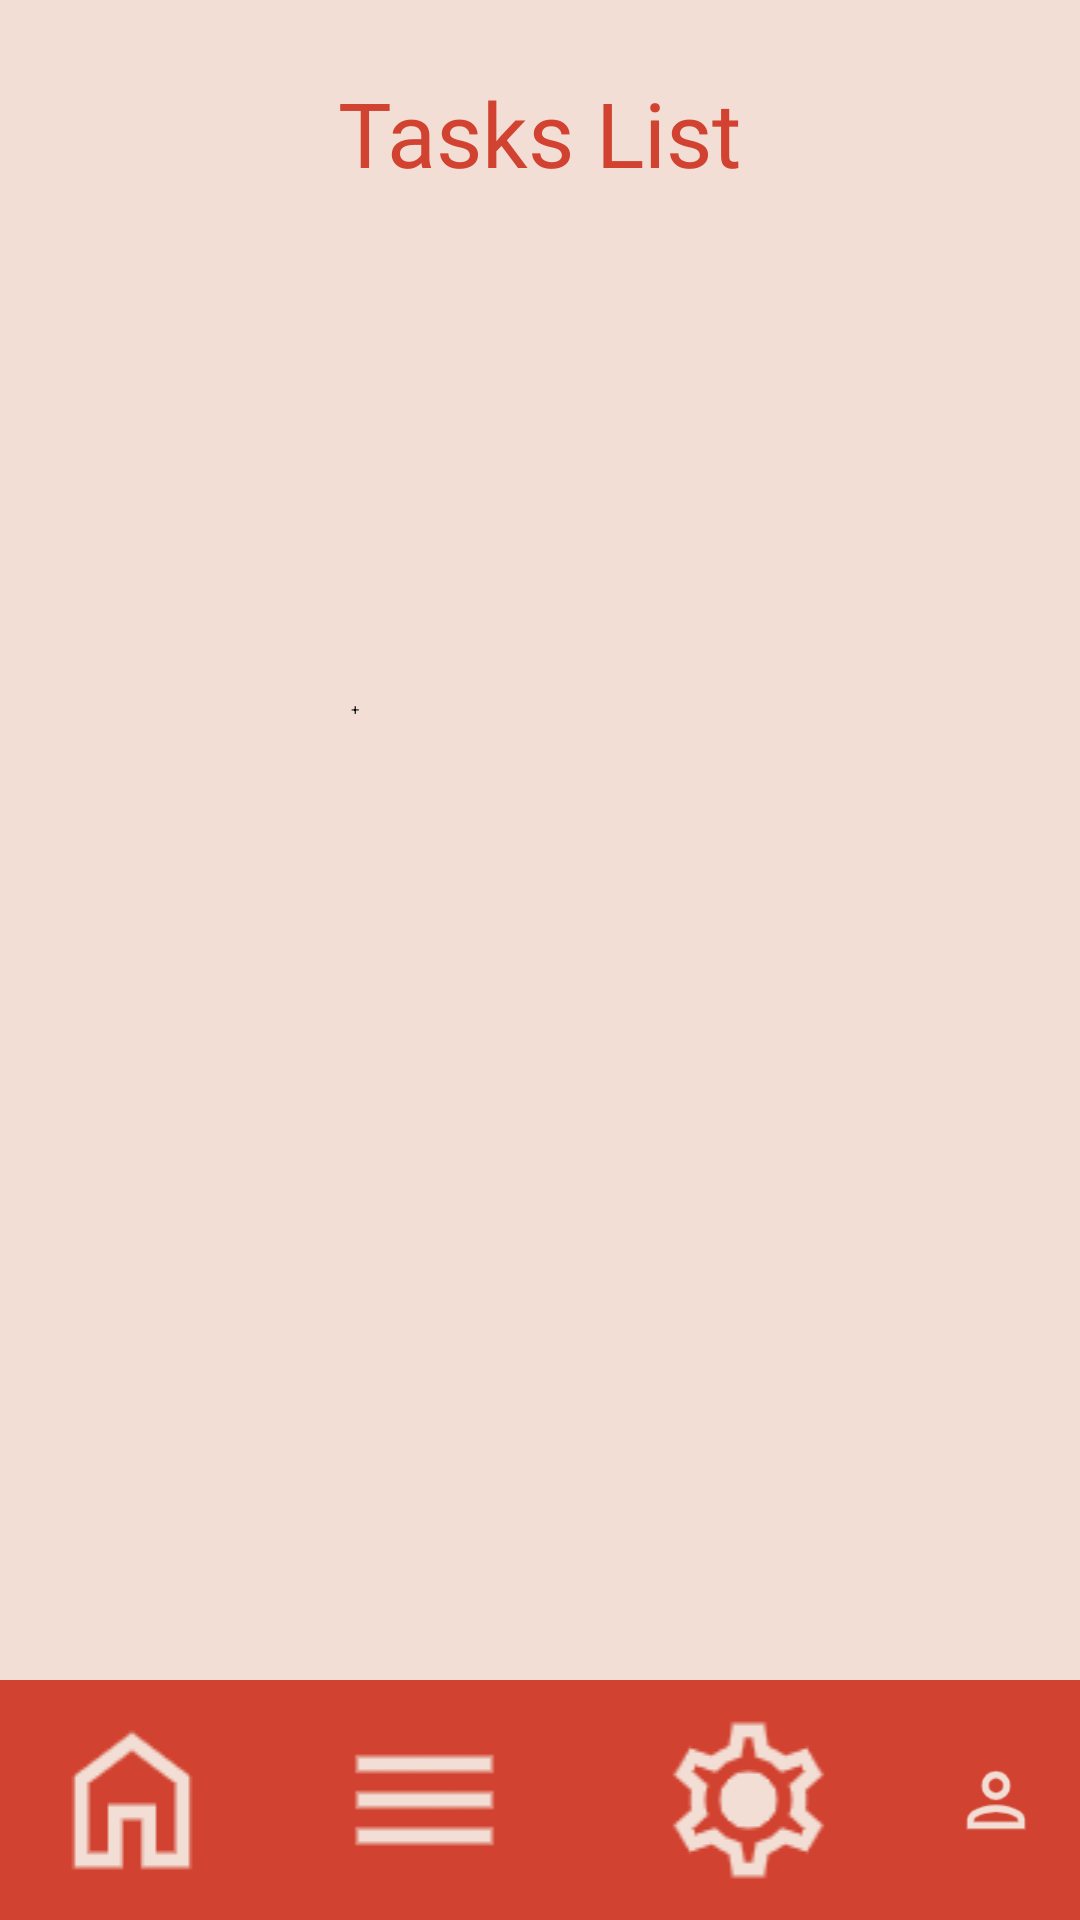

Icons on this 1080px×1920px Android screen, each with its box as (x1, y1, x2, y2):
Profile: (966, 1771, 1026, 1830)
Settings: (673, 1721, 824, 1879)
